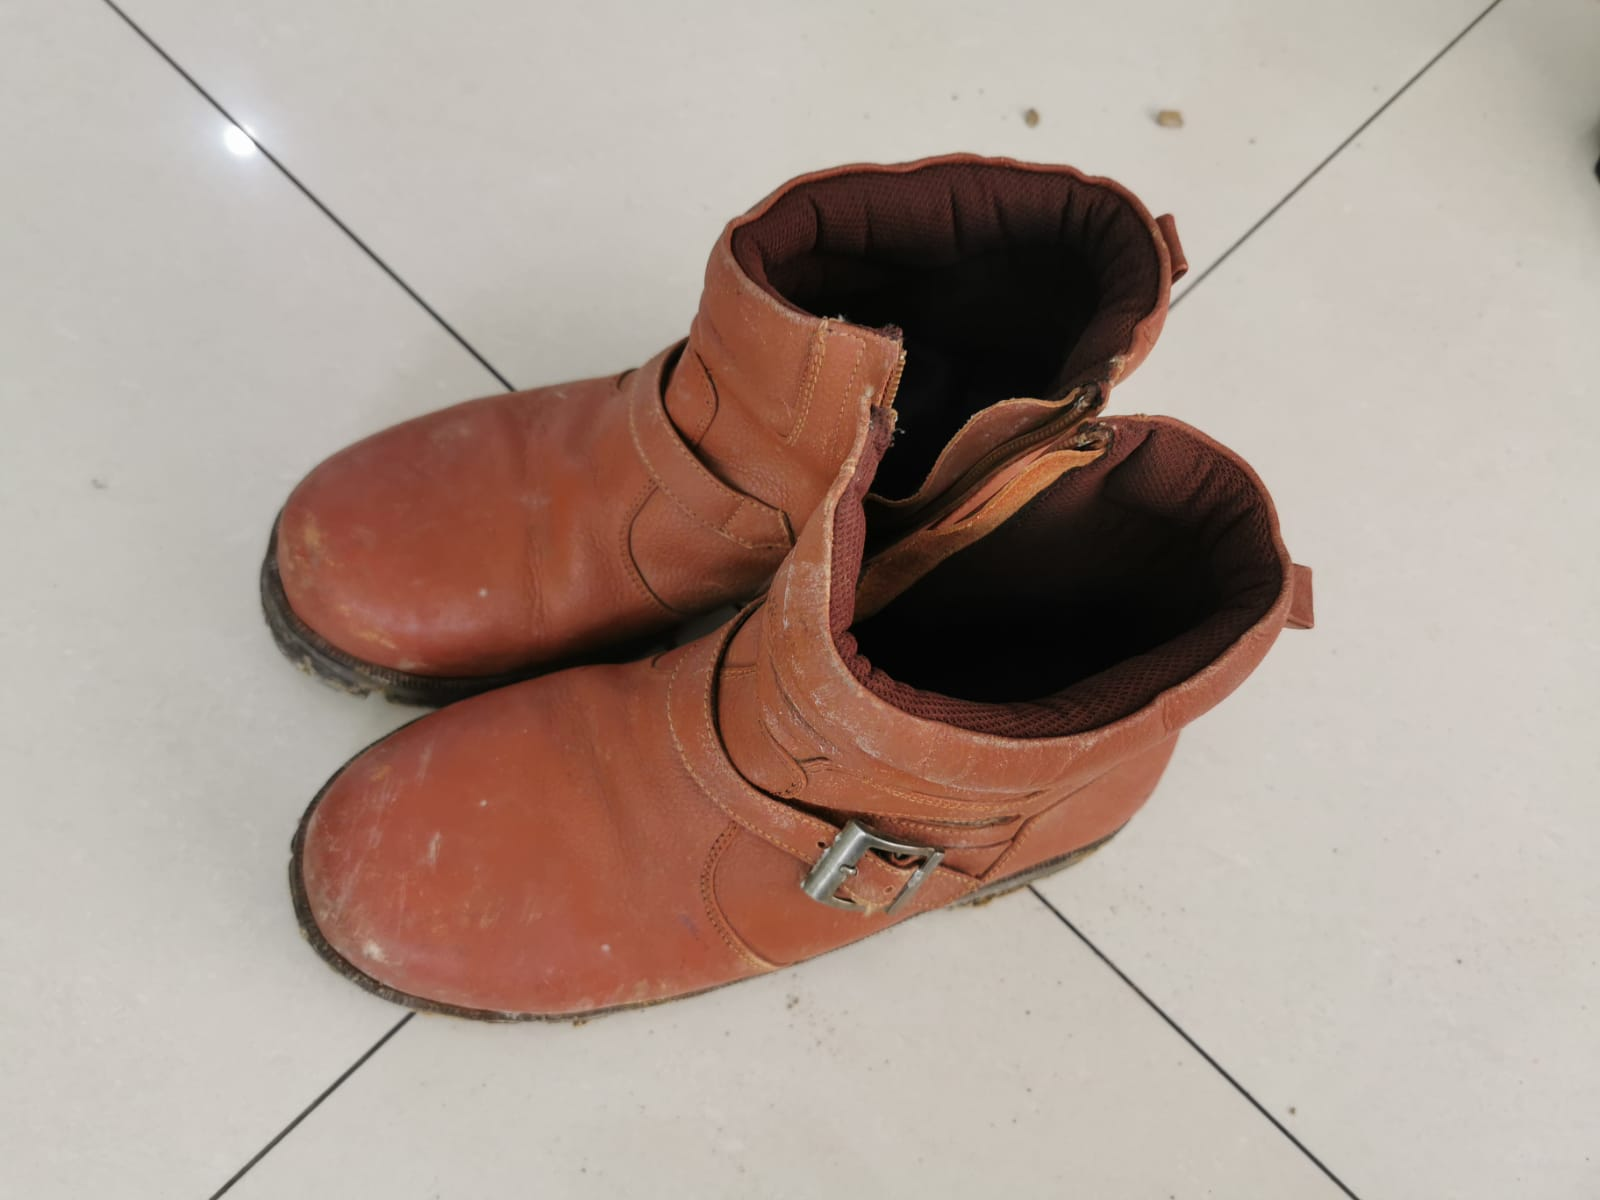SEPATU: (278, 294, 1163, 1015)
